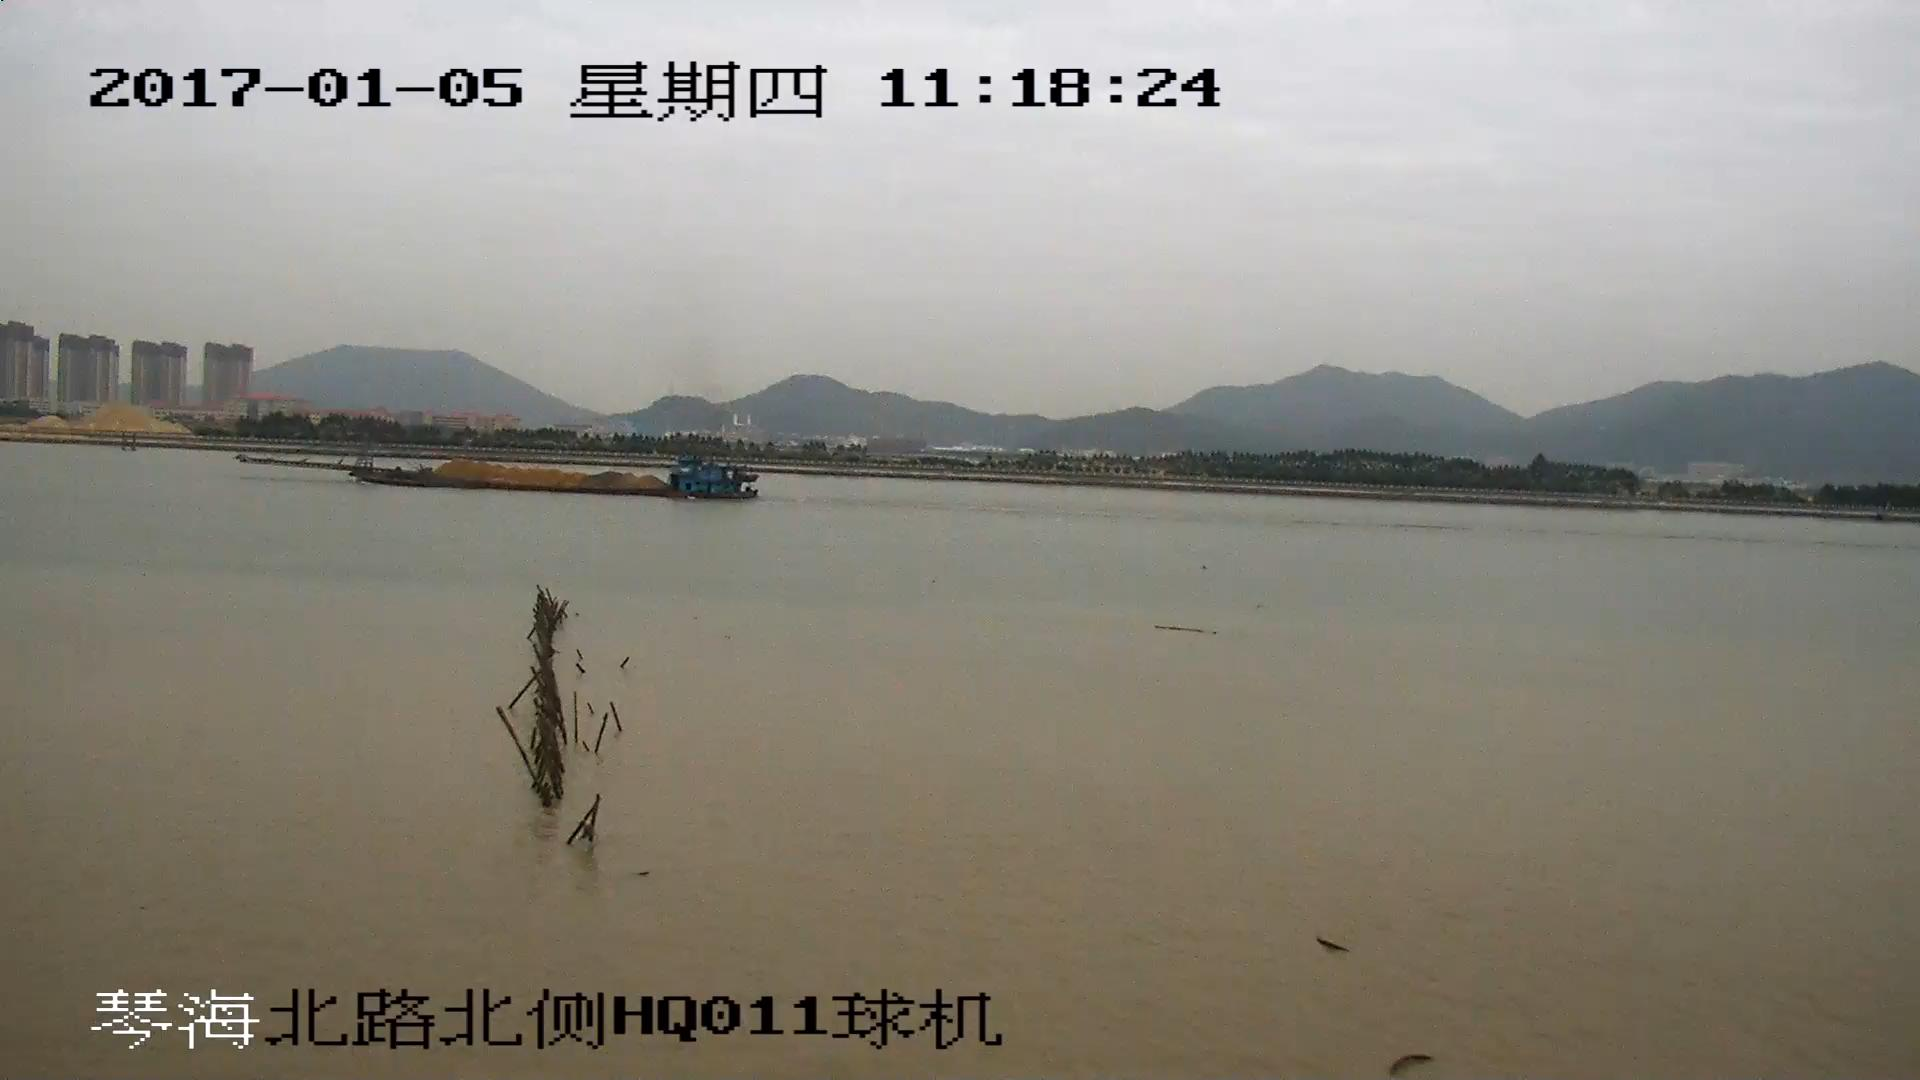ore carrier: (244, 434, 750, 504)
